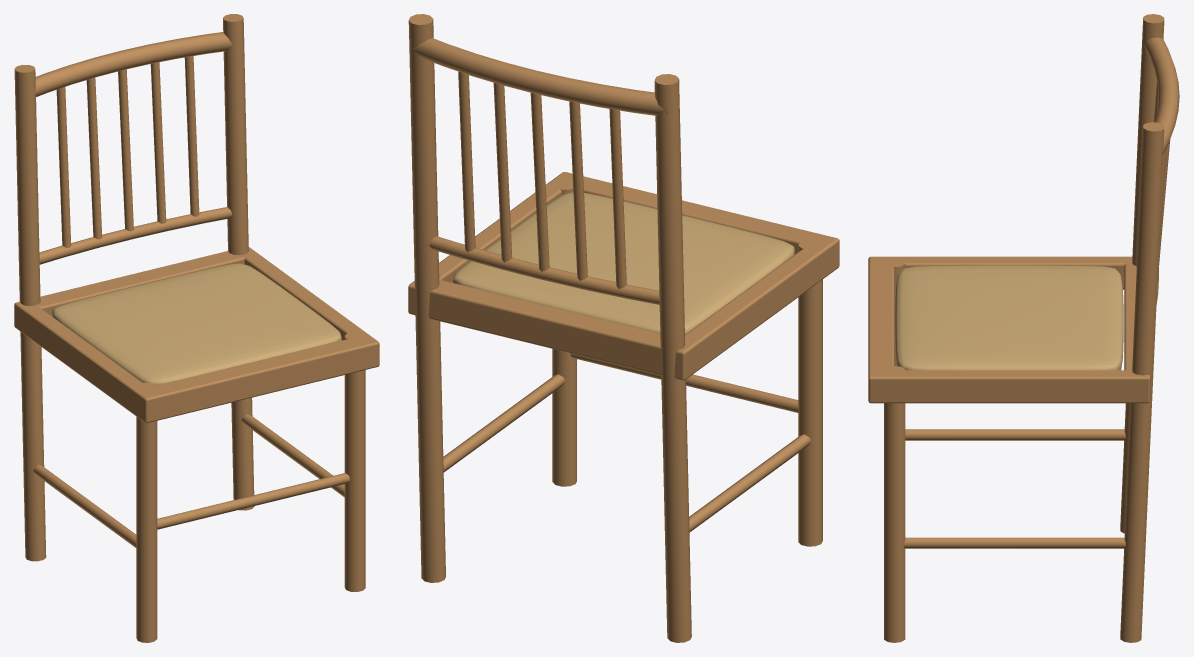
File: cadeira.glb
3 views of the same model, side by side, from view 1: azimuth 30°, elevation 25°; view 2: azimuth 150°, elevation 25°; view 3: azimuth 270°, elevation 25° (orthographic). The views are drawn at different scales.
Parts seen in each view (by area): view 1: cad_palha, cad_pe_tras, cad_aro_f, cad_pe_tras.001, cad_pe_frente, cad_pe_frente.001, cad_aro_l, cad_encosto, cad_aro_t, cad_travessa_enc, cad_travessa_frente, cad_aro_l.001 (+7 smaller); view 2: cad_palha, cad_pe_tras, cad_pe_tras.001, cad_aro_t, cad_aro_l, cad_pe_frente, cad_encosto, cad_aro_f, cad_pe_frente.001, cad_travessa_enc, cad_travessa_lado.001, cad_travessa_lado (+7 smaller); view 3: cad_palha, cad_pe_tras.001, cad_aro_l.001, cad_pe_frente.001, cad_aro_f, cad_pe_tras, cad_travessa_lado.001, cad_travessa_lado, cad_aro_l, cad_encosto, cad_aro_t.
Boxes of the visible parts, left/top/right/bottom form: cad_palha: left=52, top=263, right=341, bottom=385; cad_pe_tras: left=14, top=65, right=46, bottom=561; cad_aro_f: left=135, top=334, right=379, bottom=422; cad_pe_tras.001: left=223, top=14, right=254, bottom=510; cad_pe_frente: left=136, top=382, right=157, bottom=642; cad_pe_frente.001: left=344, top=333, right=365, bottom=591; cad_aro_l: left=14, top=302, right=147, bottom=418; cad_encosto: left=34, top=32, right=232, bottom=96; cad_aro_t: left=14, top=247, right=257, bottom=328; cad_travessa_enc: left=39, top=207, right=232, bottom=264; cad_travessa_frente: left=157, top=473, right=350, bottom=529; cad_aro_l.001: left=244, top=248, right=368, bottom=340; cad_palha: left=453, top=192, right=794, bottom=334; cad_pe_tras: left=654, top=74, right=691, bottom=642; cad_pe_tras.001: left=408, top=14, right=445, bottom=582; cad_aro_t: left=408, top=279, right=697, bottom=380; cad_aro_l: left=674, top=238, right=835, bottom=379; cad_pe_frente: left=798, top=241, right=822, bottom=546; cad_encosto: left=410, top=38, right=667, bottom=115; cad_aro_f: left=552, top=172, right=839, bottom=275; cad_pe_frente.001: left=552, top=184, right=576, bottom=486; cad_travessa_enc: left=429, top=236, right=660, bottom=304; cad_travessa_lado.001: left=443, top=374, right=565, bottom=472; cad_travessa_lado: left=689, top=434, right=810, bottom=532; cad_palha: left=895, top=265, right=1123, bottom=370; cad_pe_tras.001: left=1120, top=122, right=1164, bottom=642; cad_aro_l.001: left=877, top=370, right=1150, bottom=403; cad_pe_frente.001: left=884, top=366, right=905, bottom=642; cad_aro_f: left=868, top=256, right=894, bottom=403; cad_pe_tras: left=1120, top=14, right=1164, bottom=533; cad_travessa_lado.001: left=903, top=537, right=1126, bottom=548; cad_travessa_lado: left=905, top=429, right=1126, bottom=440; cad_aro_l: left=879, top=256, right=1130, bottom=289; cad_encosto: left=1144, top=37, right=1179, bottom=154; cad_aro_t: left=1124, top=256, right=1150, bottom=403.
Bounding box in the file's own units: 0.44 × 0.8613 × 0.4744.
